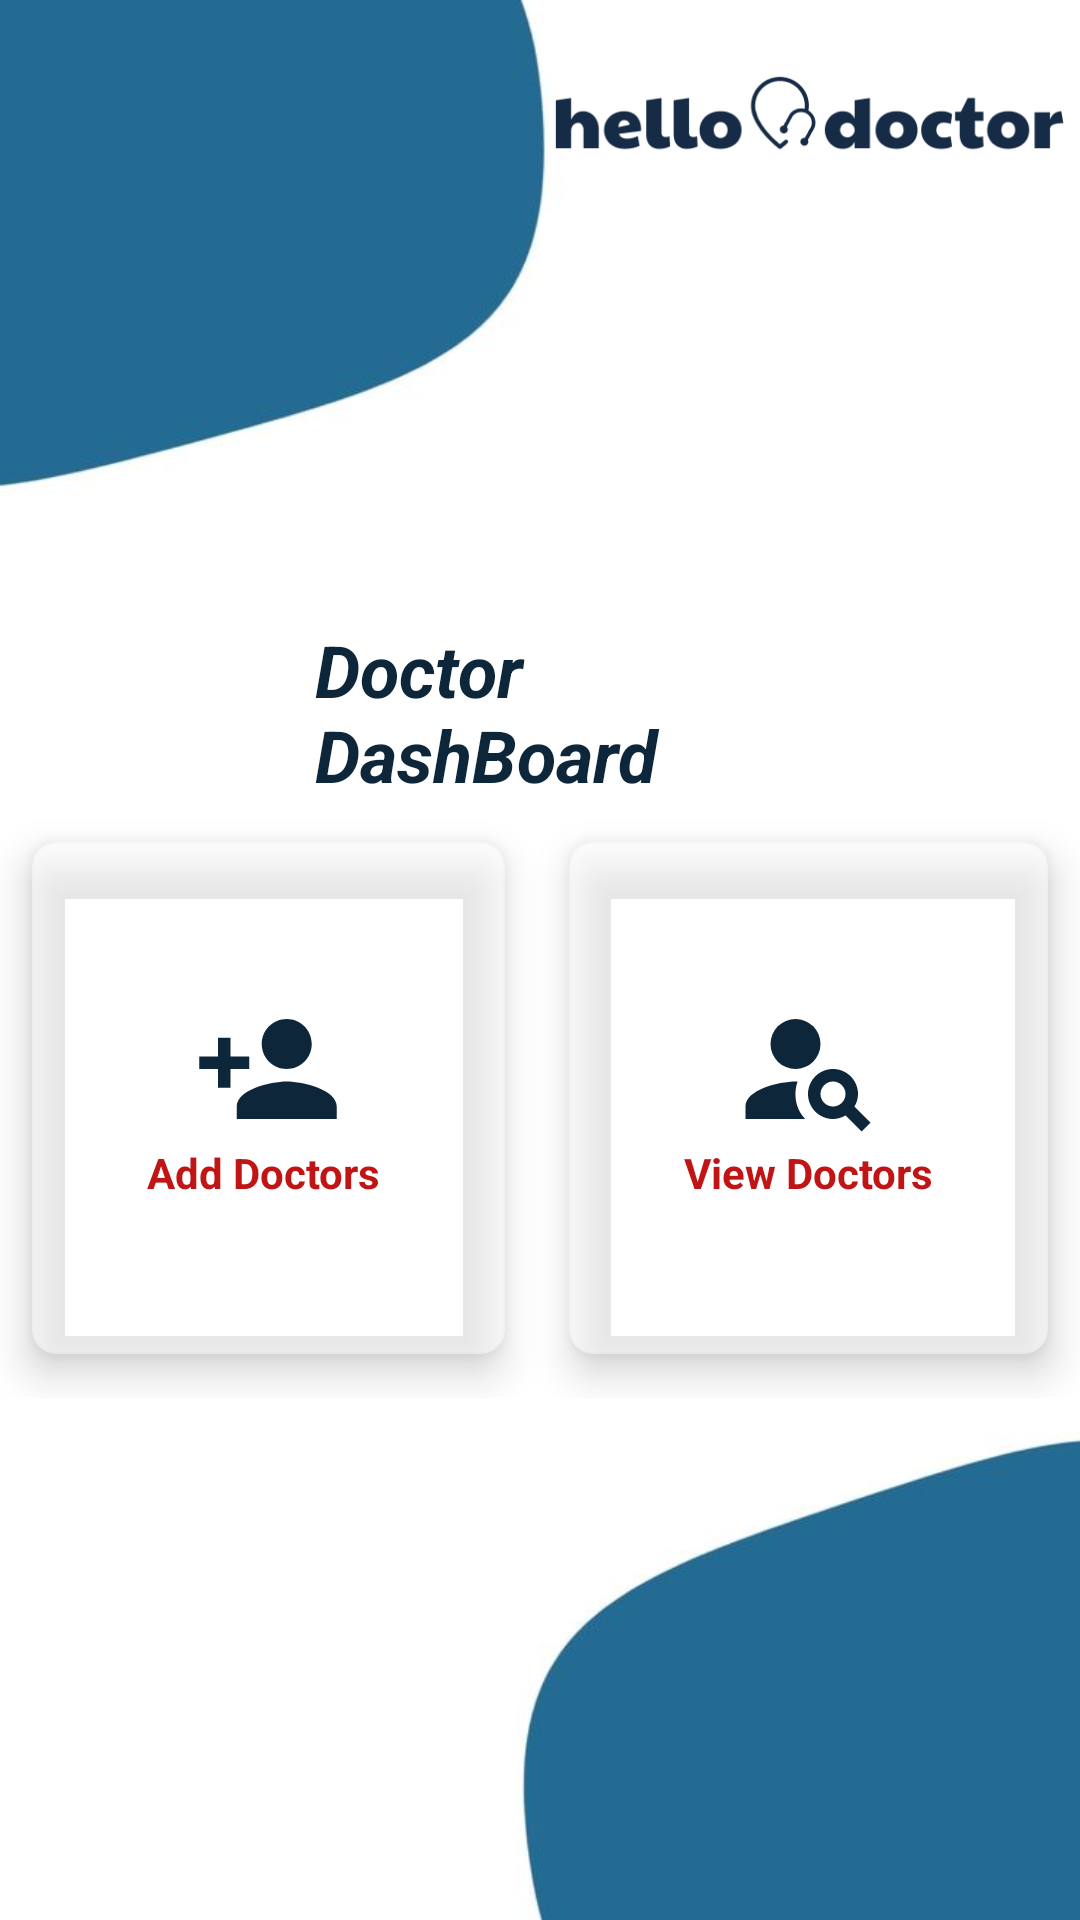

Icons on this 1080px x 1920px Android screen, each with its box as (x1, y1, x2, y2):
person add: (199, 1019, 337, 1119)
person search: (745, 1019, 871, 1132)
